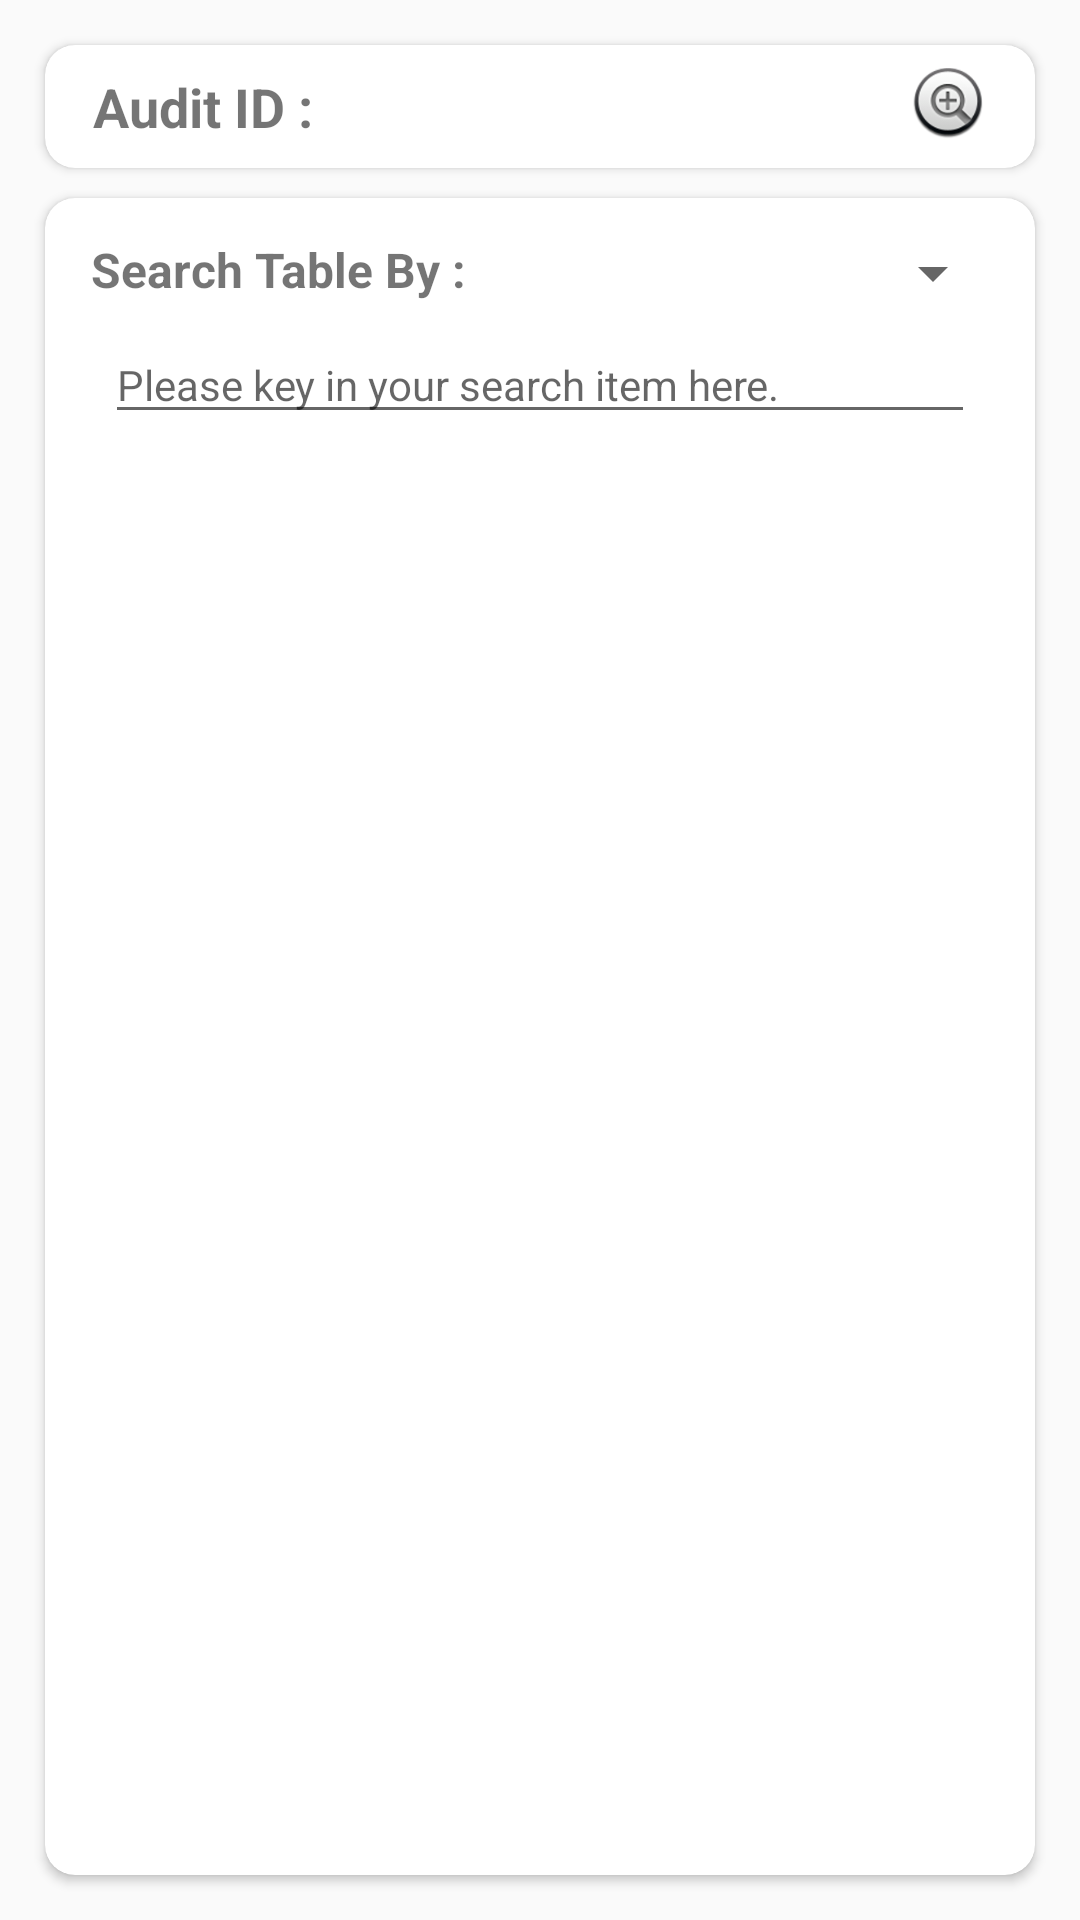

Icons on this 1080 x 1920 Android screen, each with its box as (x1, y1, x2, y2):
plus: (914, 68, 982, 138)
